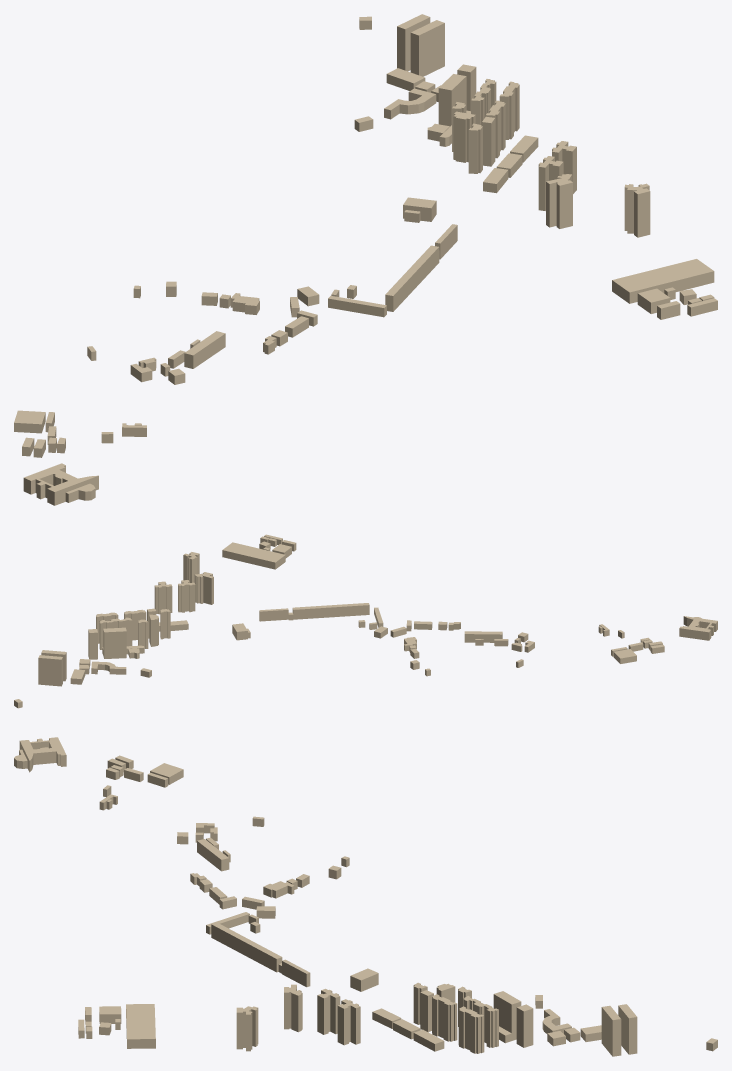
Rendered from -8_6-estimated-coarse.glb.
3 views of the same model, one above another, from view 1: azimuth 30°, elevation 25°; view 2: azimuth 150°, elevation 25°; view 3: azimuth 270°, elevation 25° (orthographic). The views are drawn at different scales.
Size of the model in its own units: 1031 by 57 by 995.
